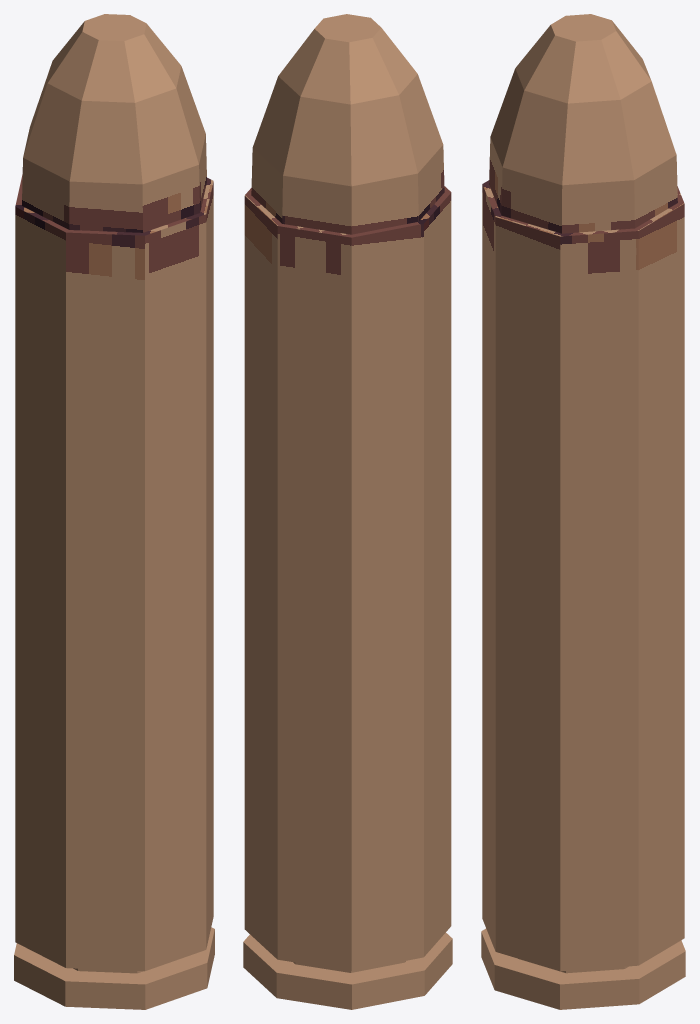
File: Revolver Bullet.fbx
3 renders of one model, left to right at view 1: azimuth 30°, elevation 25°; view 2: azimuth 150°, elevation 25°; view 3: azimuth 270°, elevation 25°, orthographic.
Parts seen in each view (by area): view 1: Revolver Bullet; view 2: Revolver Bullet; view 3: Revolver Bullet.
Part boxes in pixels (x1,y1,x2,y2): Revolver Bullet: (14, 14, 214, 1009); Revolver Bullet: (243, 14, 452, 1009); Revolver Bullet: (481, 14, 685, 1009).
Bounding box in the file's own units: 0.0142 × 0.0719 × 0.0142.
